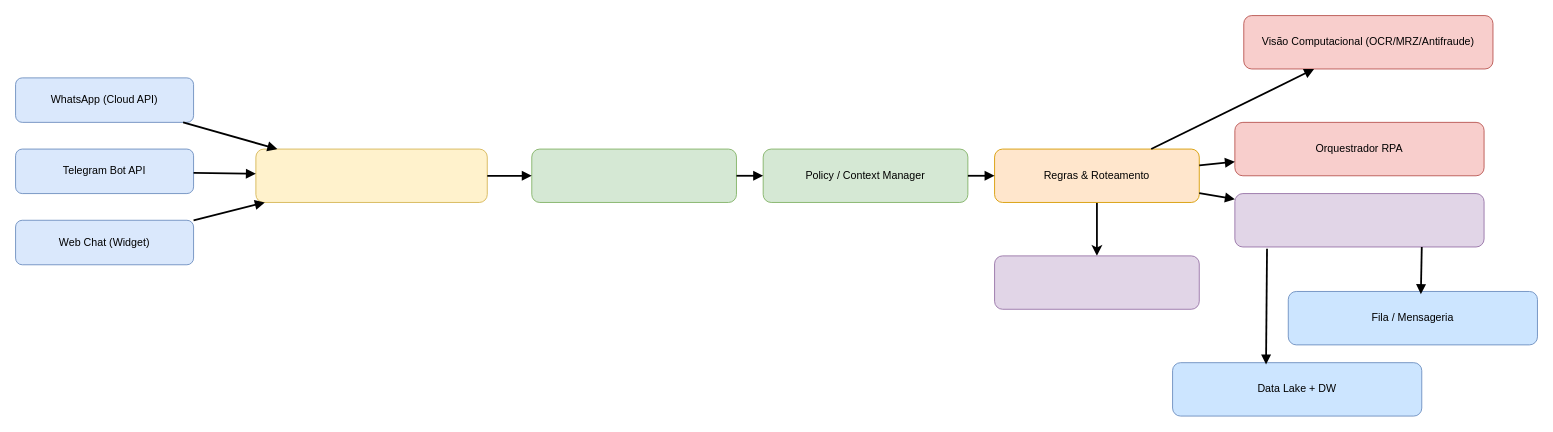
Some shapes in this 1553 by 432 pixel diagram are drawn without their labels. The centre of each missing label's shape, as x and y in pixels:
Gateway Omnicanal / Orquestrador: (x=371, y=175)
Handoff Humano (Agent Desk): (x=1096, y=282)
NLP Engine (Intent/Entity): (x=633, y=175)
Serviços Internos (Microserviços): (x=1359, y=220)
